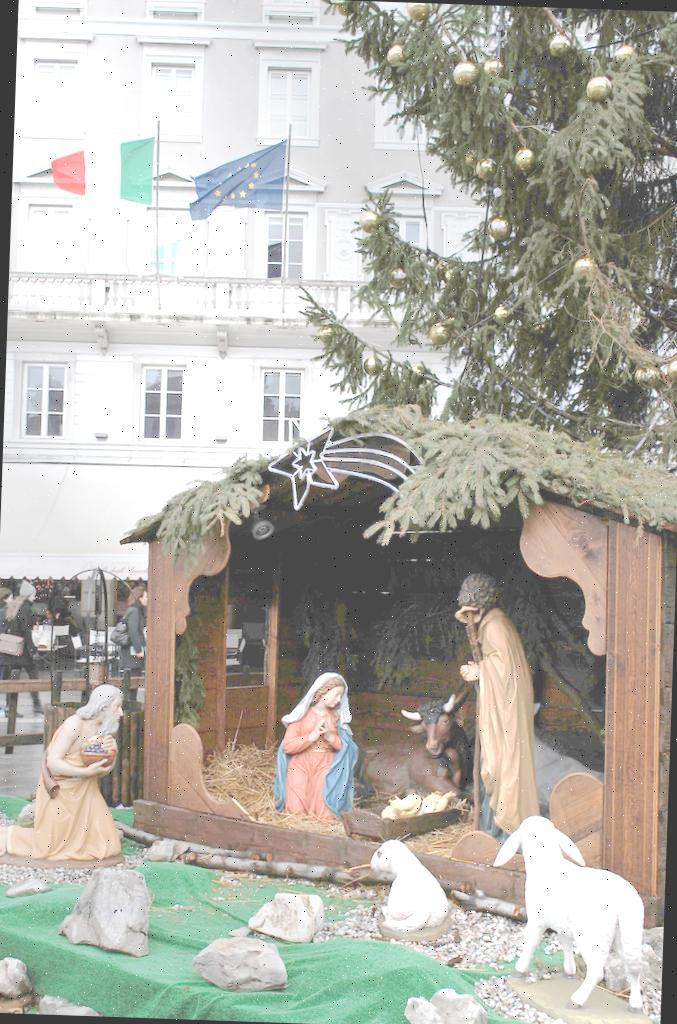Sheep: (486, 814, 650, 1014), (366, 838, 449, 934)
